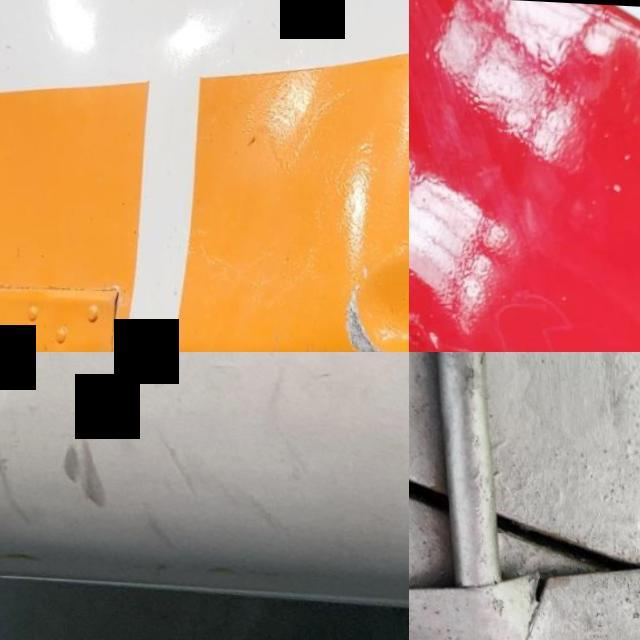Crack: (409, 212, 523, 352), (506, 552, 574, 634)
Dent: (334, 244, 409, 352)
